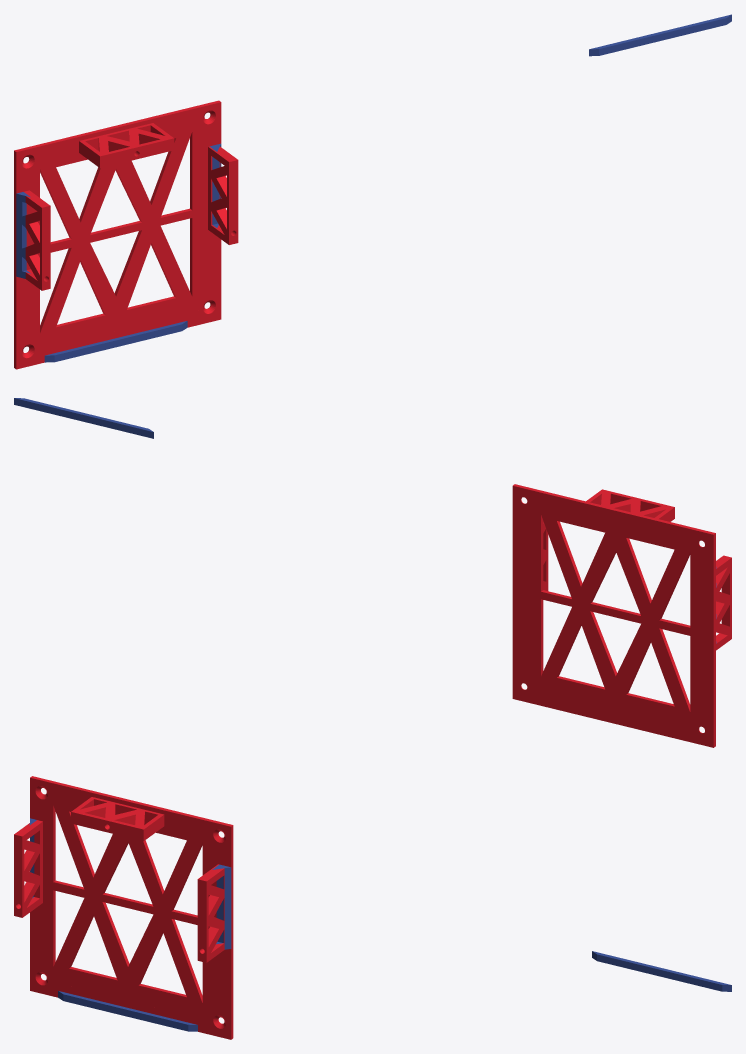
File: tinker.obj
3 renders of one model, top to bottom at view 1: azimuth 30°, elevation 25°; view 2: azimuth 150°, elevation 25°; view 3: azimuth 330°, elevation 25°, orthographic.
Parts seen in each view (by area): view 1: group_0_15277357, group_0_3888547; view 2: group_0_15277357, group_0_3888547; view 3: group_0_15277357, group_0_3888547.
Part boxes in pixels (left/top/right/bottom): group_0_15277357: left=14, top=100, right=238, bottom=369; group_0_3888547: left=16, top=14, right=731, bottom=362; group_0_15277357: left=512, top=484, right=731, bottom=747; group_0_3888547: left=14, top=398, right=716, bottom=643; group_0_15277357: left=14, top=776, right=233, bottom=1039; group_0_3888547: left=29, top=818, right=731, bottom=1031.
Bounding box in the file's own units: 541 × 157 × 30.5.
